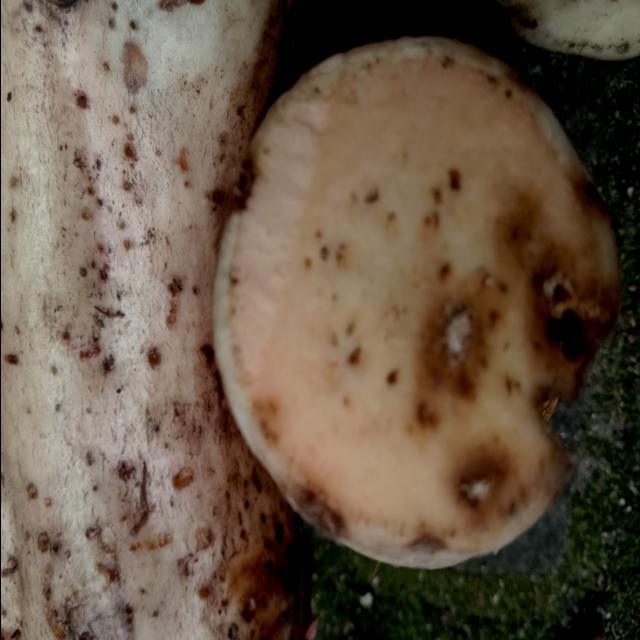Sick Sweet Potato_Tuber Rot: (214, 38, 620, 567)
